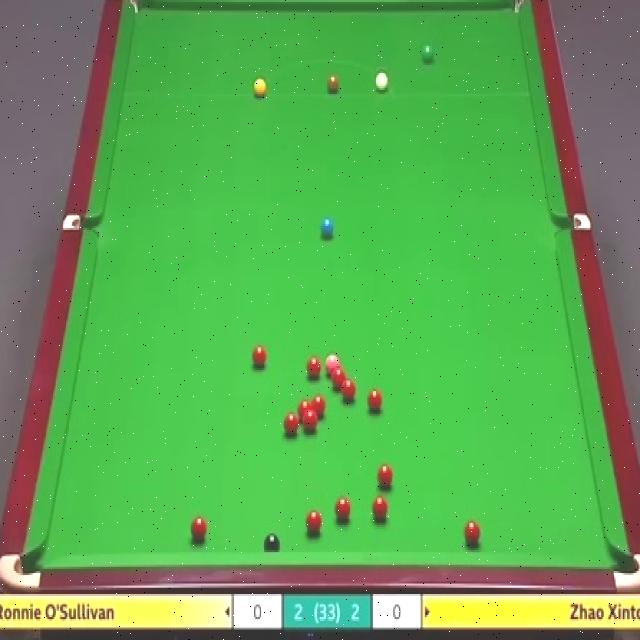black-ball: (265, 532, 284, 552)
blue-ball: (320, 218, 335, 236)
brown-ball: (327, 75, 340, 98)
green-ball: (423, 44, 433, 60)
pink-ball: (325, 353, 340, 374)
red-ball: (310, 394, 328, 421), (335, 493, 351, 523), (377, 463, 394, 491), (189, 516, 207, 542), (466, 520, 484, 546), (282, 412, 300, 437), (305, 510, 323, 535), (372, 497, 388, 520), (252, 344, 266, 370), (303, 410, 318, 433), (306, 356, 320, 377), (332, 367, 346, 387), (367, 391, 382, 409), (298, 401, 312, 420), (342, 381, 354, 403)
white-ball: (374, 72, 387, 93)
yellow-ball: (254, 77, 266, 99)
